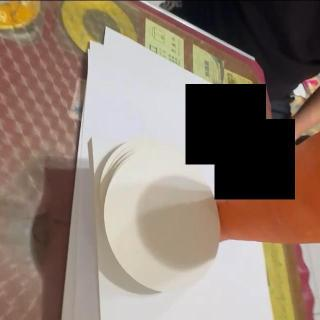carrot: (215, 118, 320, 243)
